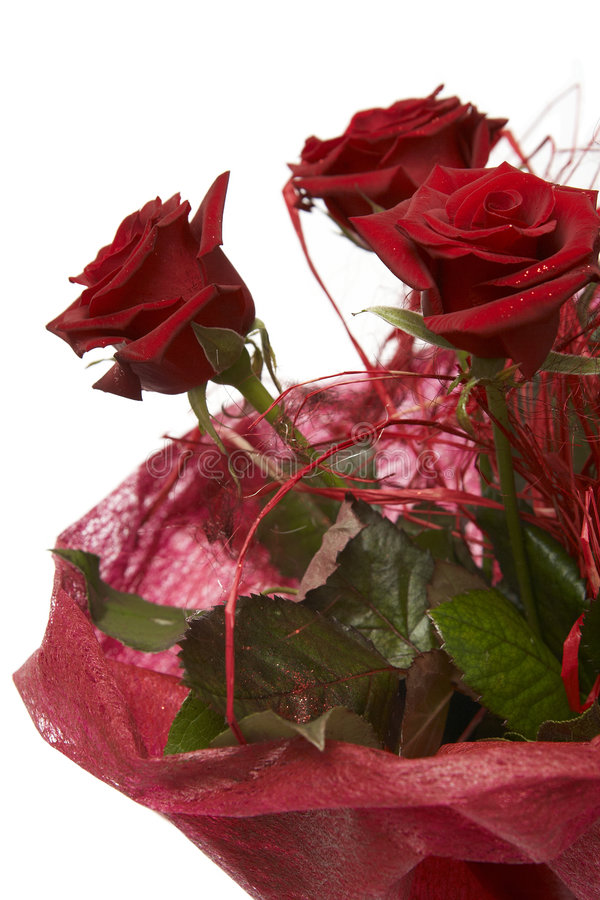RedRose: (60, 155, 295, 432), (272, 40, 597, 228), (368, 173, 600, 398)
